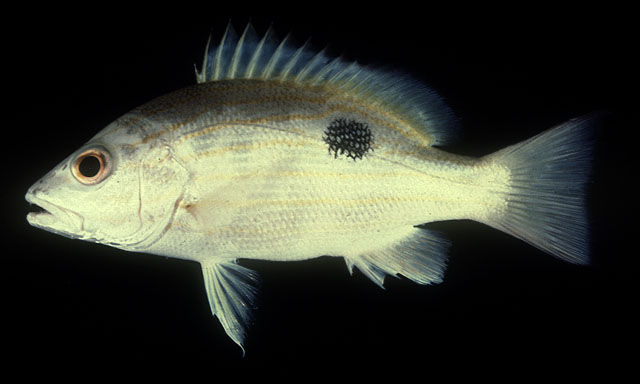fish: (25, 27, 588, 354)
